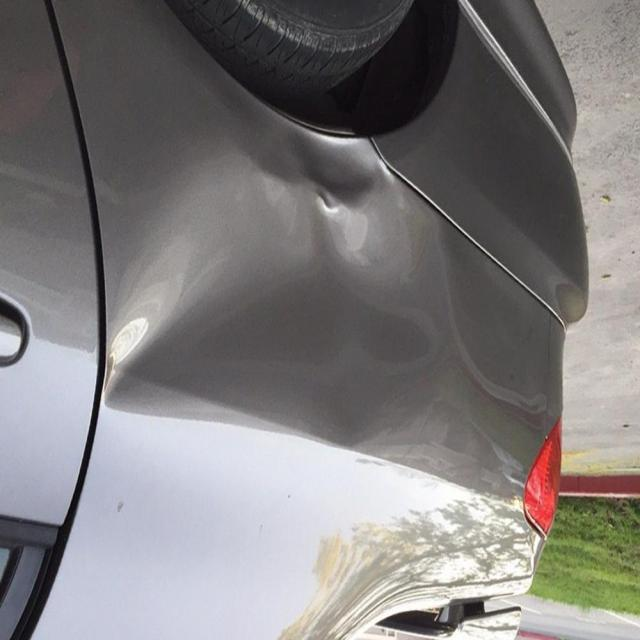dent: (85, 123, 402, 460)
